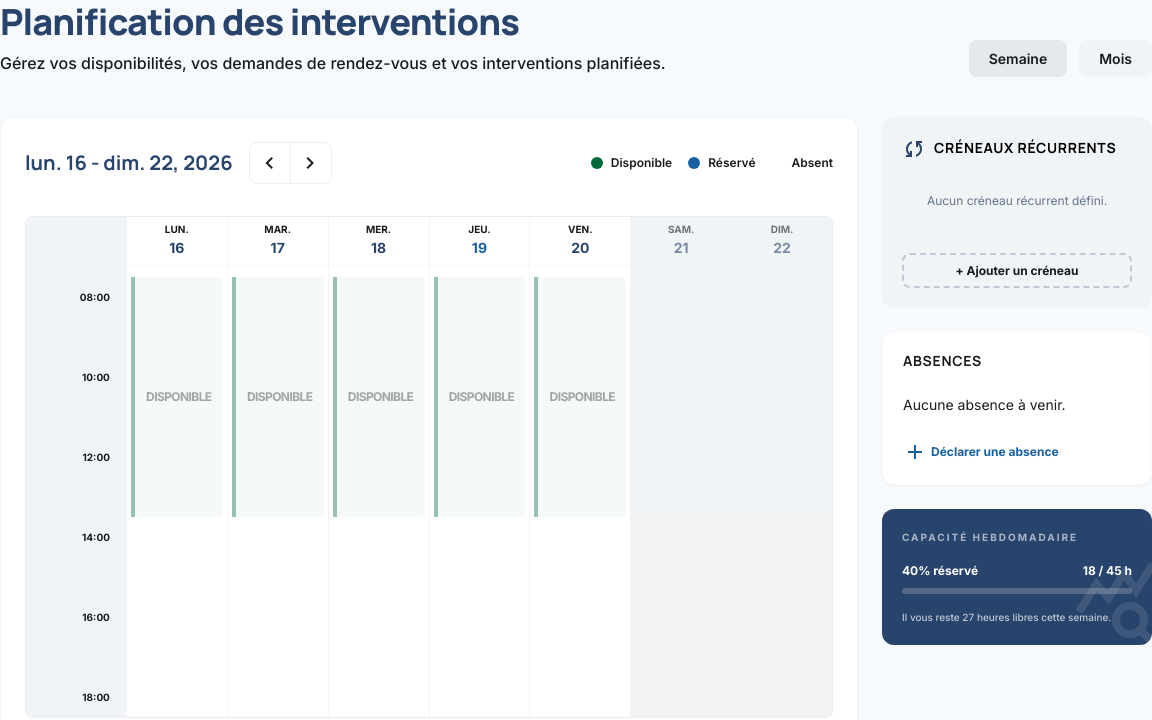
Test: Planning › déclare une absence : bouton inactif sans dates, puis envoi ISO et rechargement
Click the button "Déclarer une absence": (981, 452) [903, 440, 1059, 464]
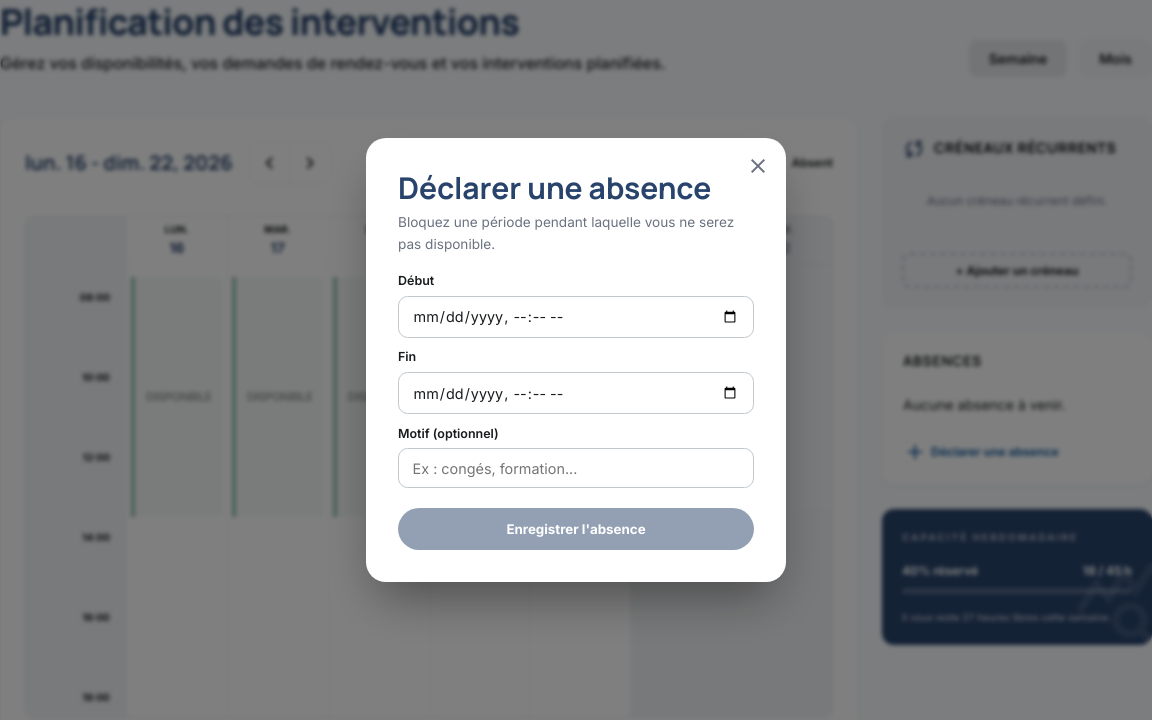
Expected: the button "Enregistrer l'absence" is disabled, [398, 508, 754, 550]
In the 1st field: (576, 317) [398, 296, 754, 338], type "2026-12-01T08:00"
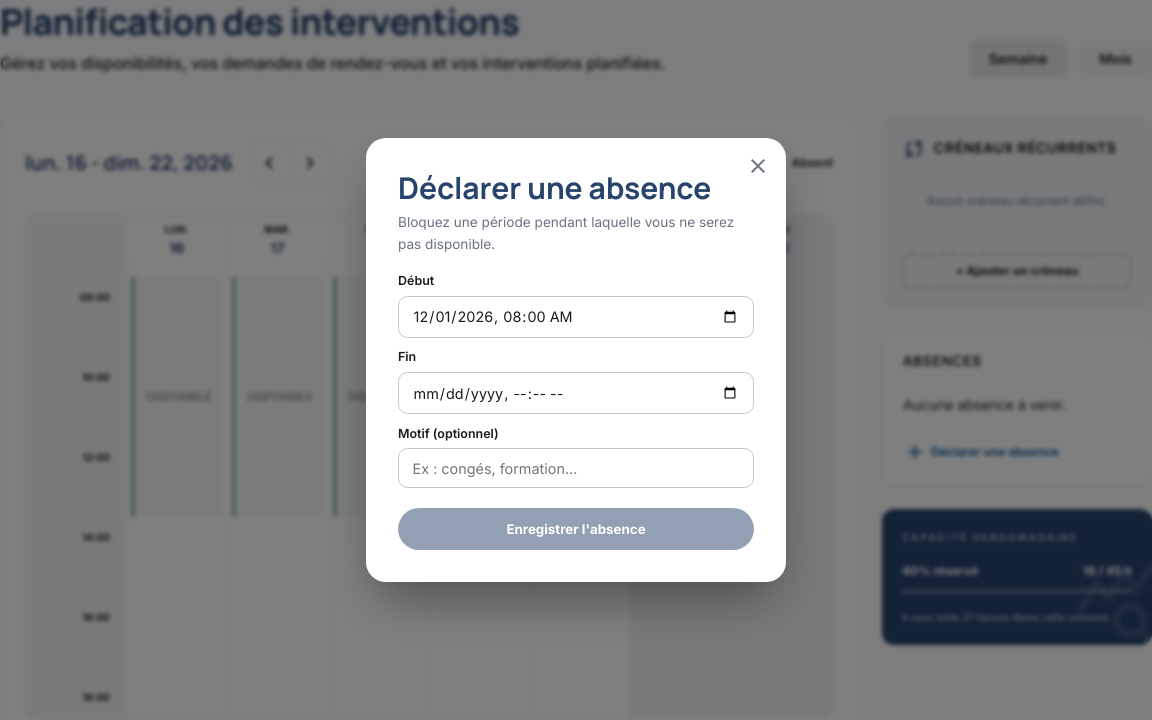
In the 2nd field: (576, 393) [398, 372, 754, 414], type "2026-12-03T18:00"
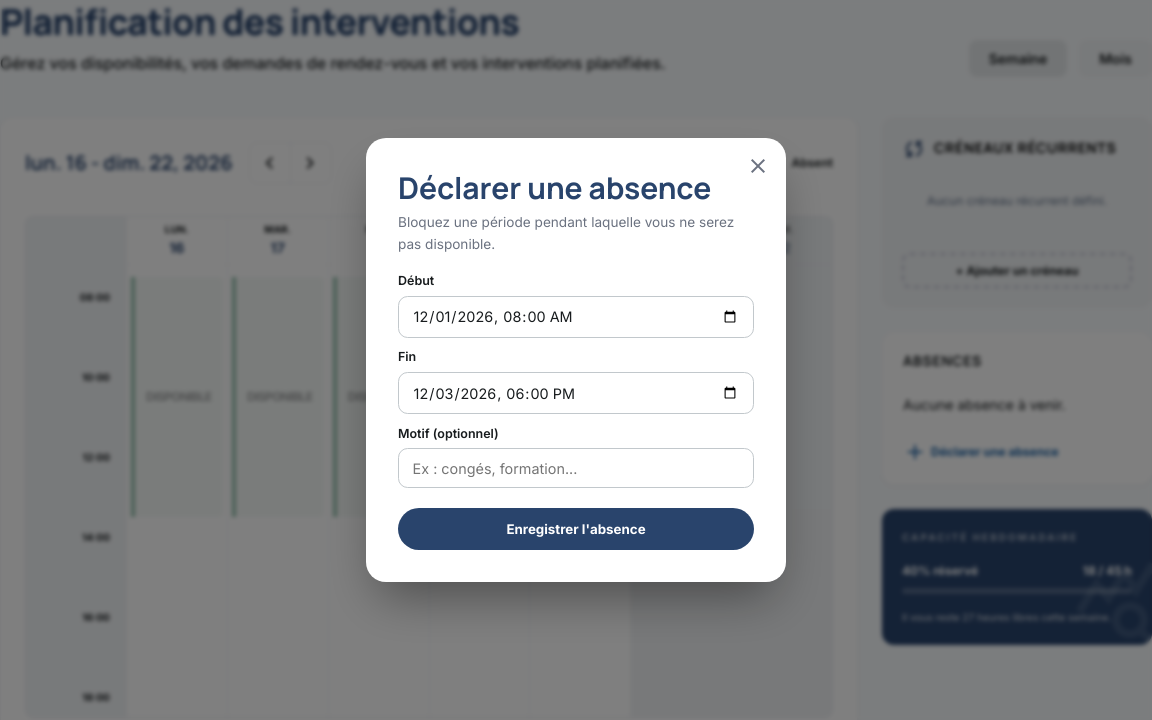
In the field with placeholder "Ex : congés, formation...": (576, 468) [398, 448, 754, 488], type "Formation"
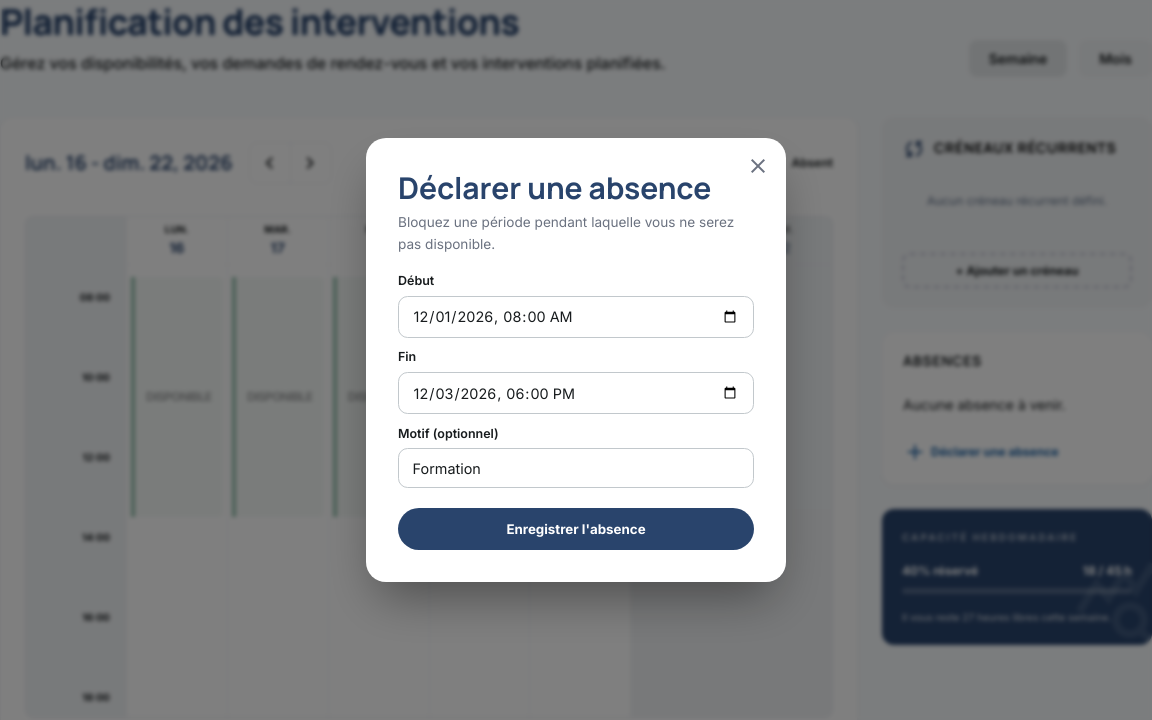
Click the button "Enregistrer l'absence": (576, 529) [398, 508, 754, 550]
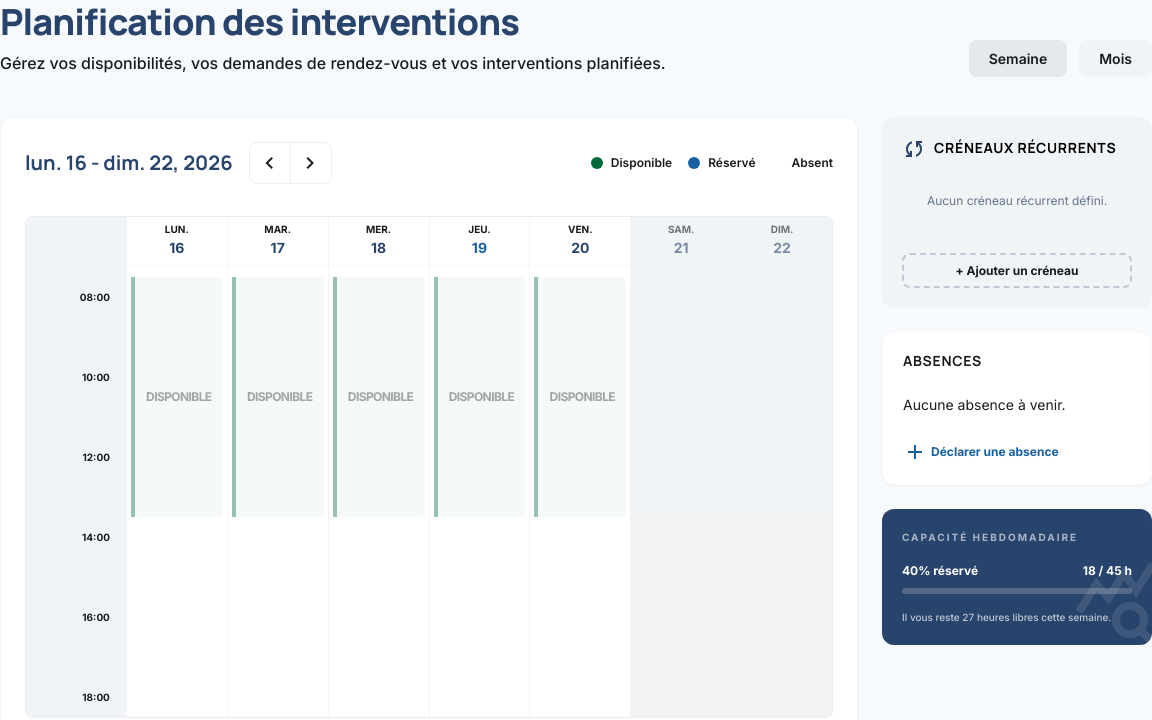
Expected: the button "Enregistrer l'absence" is gone
